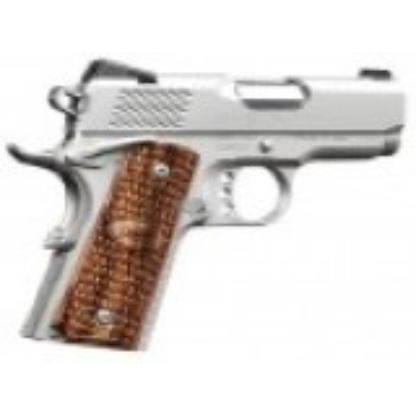gun: (19, 56, 412, 348)
